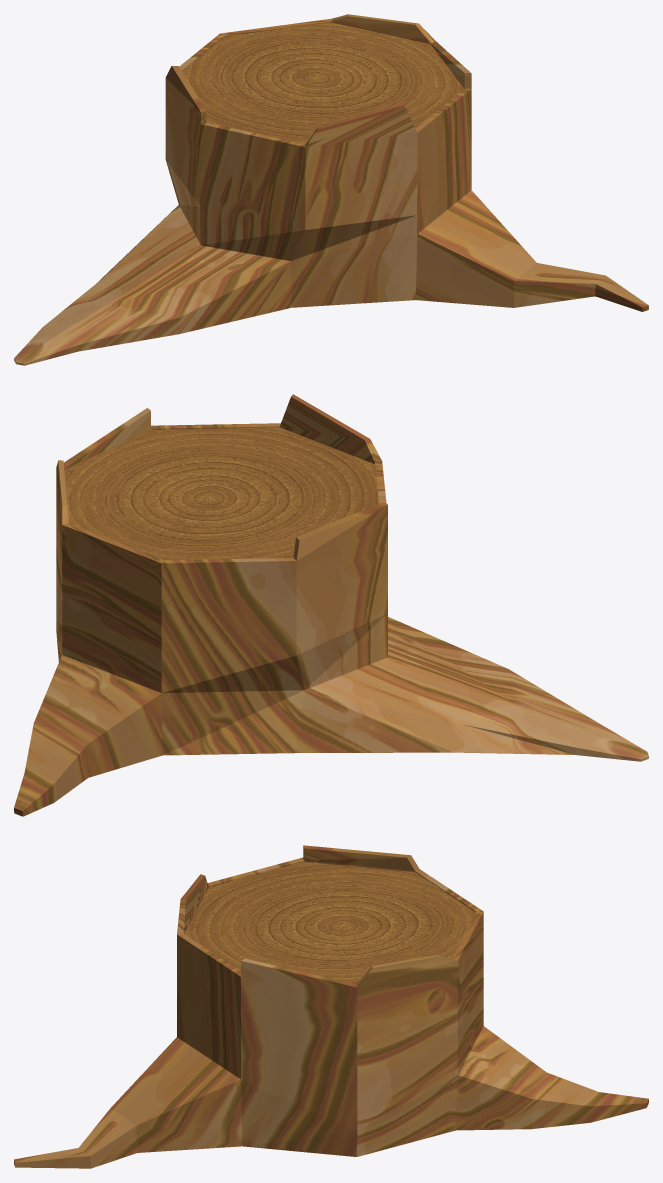
The model's file is Tree_Trunk.fbx.
3 renders of one model, top to bottom at view 1: azimuth 30°, elevation 25°; view 2: azimuth 150°, elevation 25°; view 3: azimuth 270°, elevation 25°, orthographic. The views are drawn at different scales.
Visible parts, largest first — view 1: Tree_Trunk; view 2: Tree_Trunk; view 3: Tree_Trunk.
Part boxes in pixels (x1,y1,x2,y2): Tree_Trunk: [14, 14, 648, 365]; Tree_Trunk: [14, 394, 648, 816]; Tree_Trunk: [14, 845, 648, 1168].
Size of the model in its own units: 1.49 by 1.57 by 0.5698.
